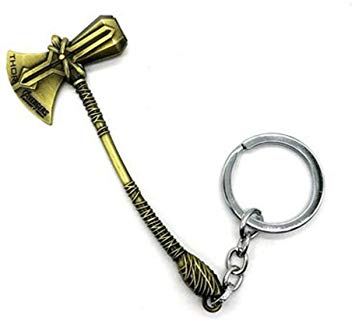THOR Hammer: (14, 12, 213, 301)
